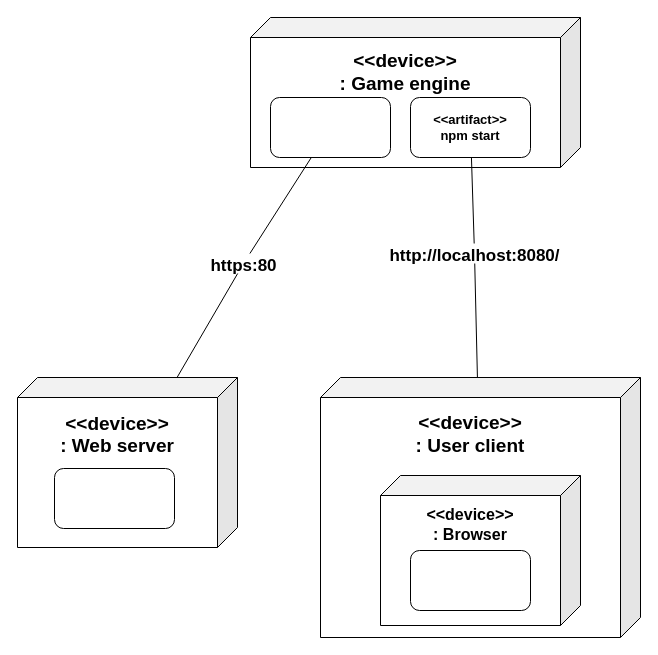
Image size: 658x655. Some labels were removed from this diagram. The centre of each missing label's shape, as x and y in pixels:
<<artifact>> HTML 5: point 470,580
<<artifact>> npm run deploy: point 330,127
<<artifact>> Web site: point 114,498
